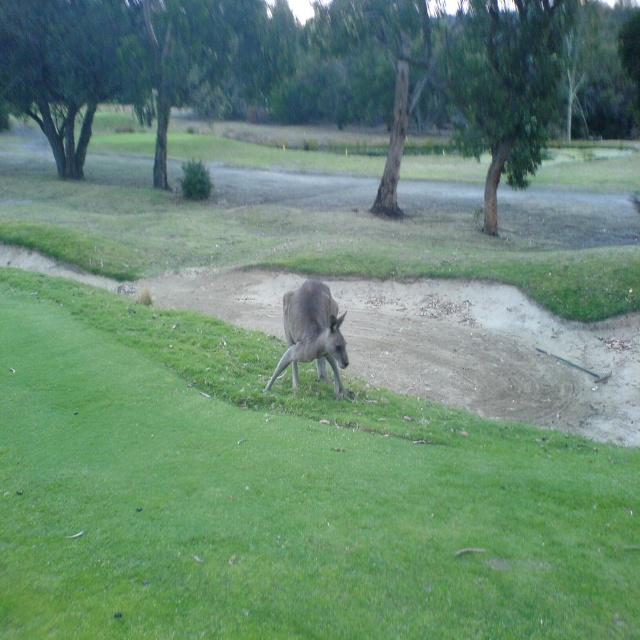Kangaroo: (265, 278, 349, 400)
